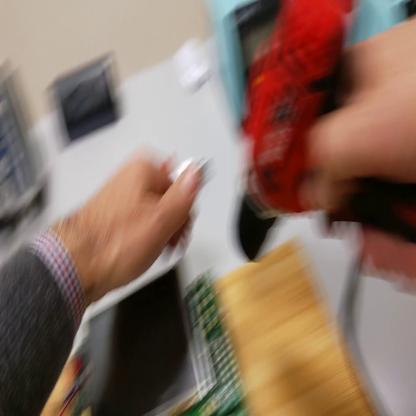electric screwdriver: (226, 2, 415, 257)
hand: (297, 22, 416, 293), (80, 147, 204, 305)
low voltage board: (52, 259, 247, 416)
oscilloscope: (2, 55, 43, 234)
pliers: (162, 149, 208, 188)
welder base: (349, 4, 412, 46)
welder station: (205, 1, 283, 128)
working area: (43, 235, 381, 416)
